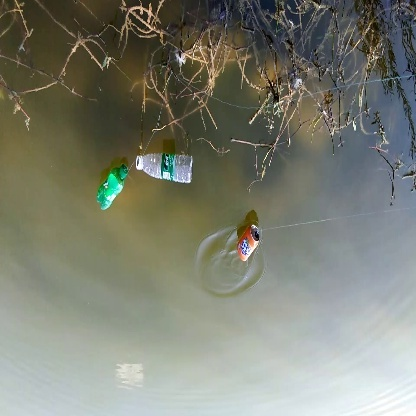bottle: (134, 153, 200, 186), (235, 223, 265, 268)
